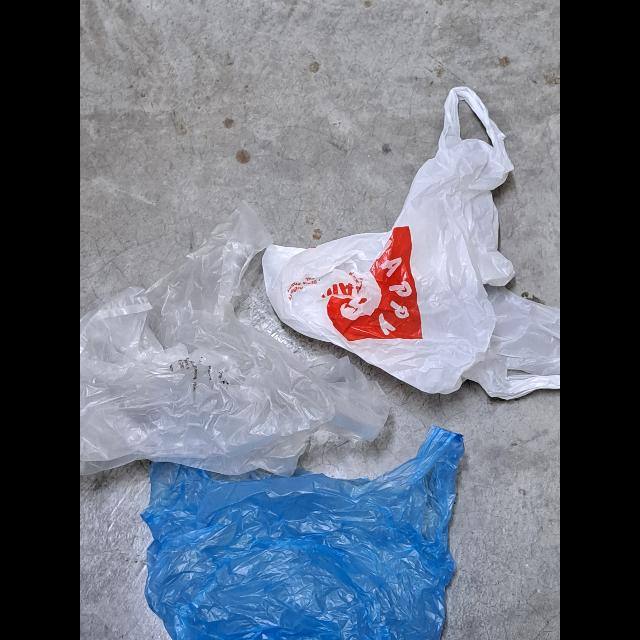sacola plástica: (260, 89, 560, 399), (80, 208, 390, 476), (142, 430, 468, 640)
